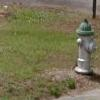Hydrant: (71, 11, 96, 77)
